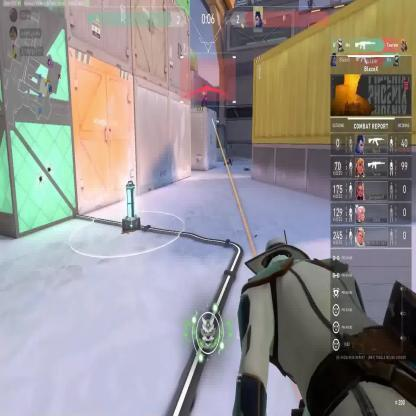enemy: (199, 82, 208, 108)
enemy_head: (202, 84, 206, 92)
